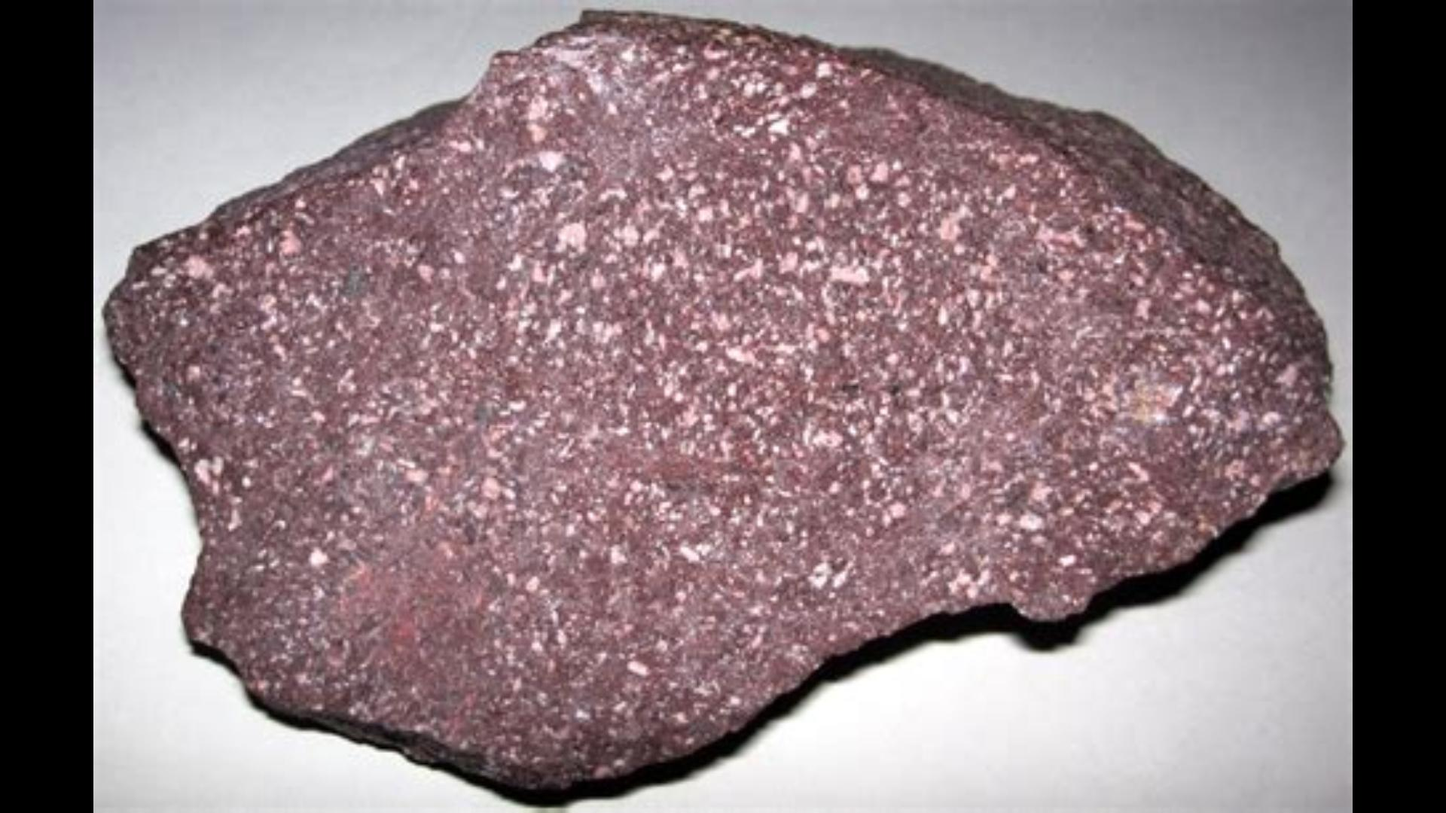rock: (104, 13, 1340, 794)
